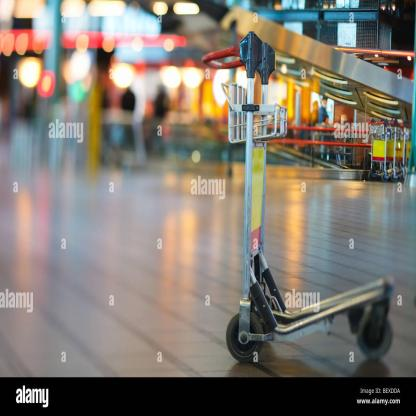airport-trolley: (198, 27, 403, 367)
